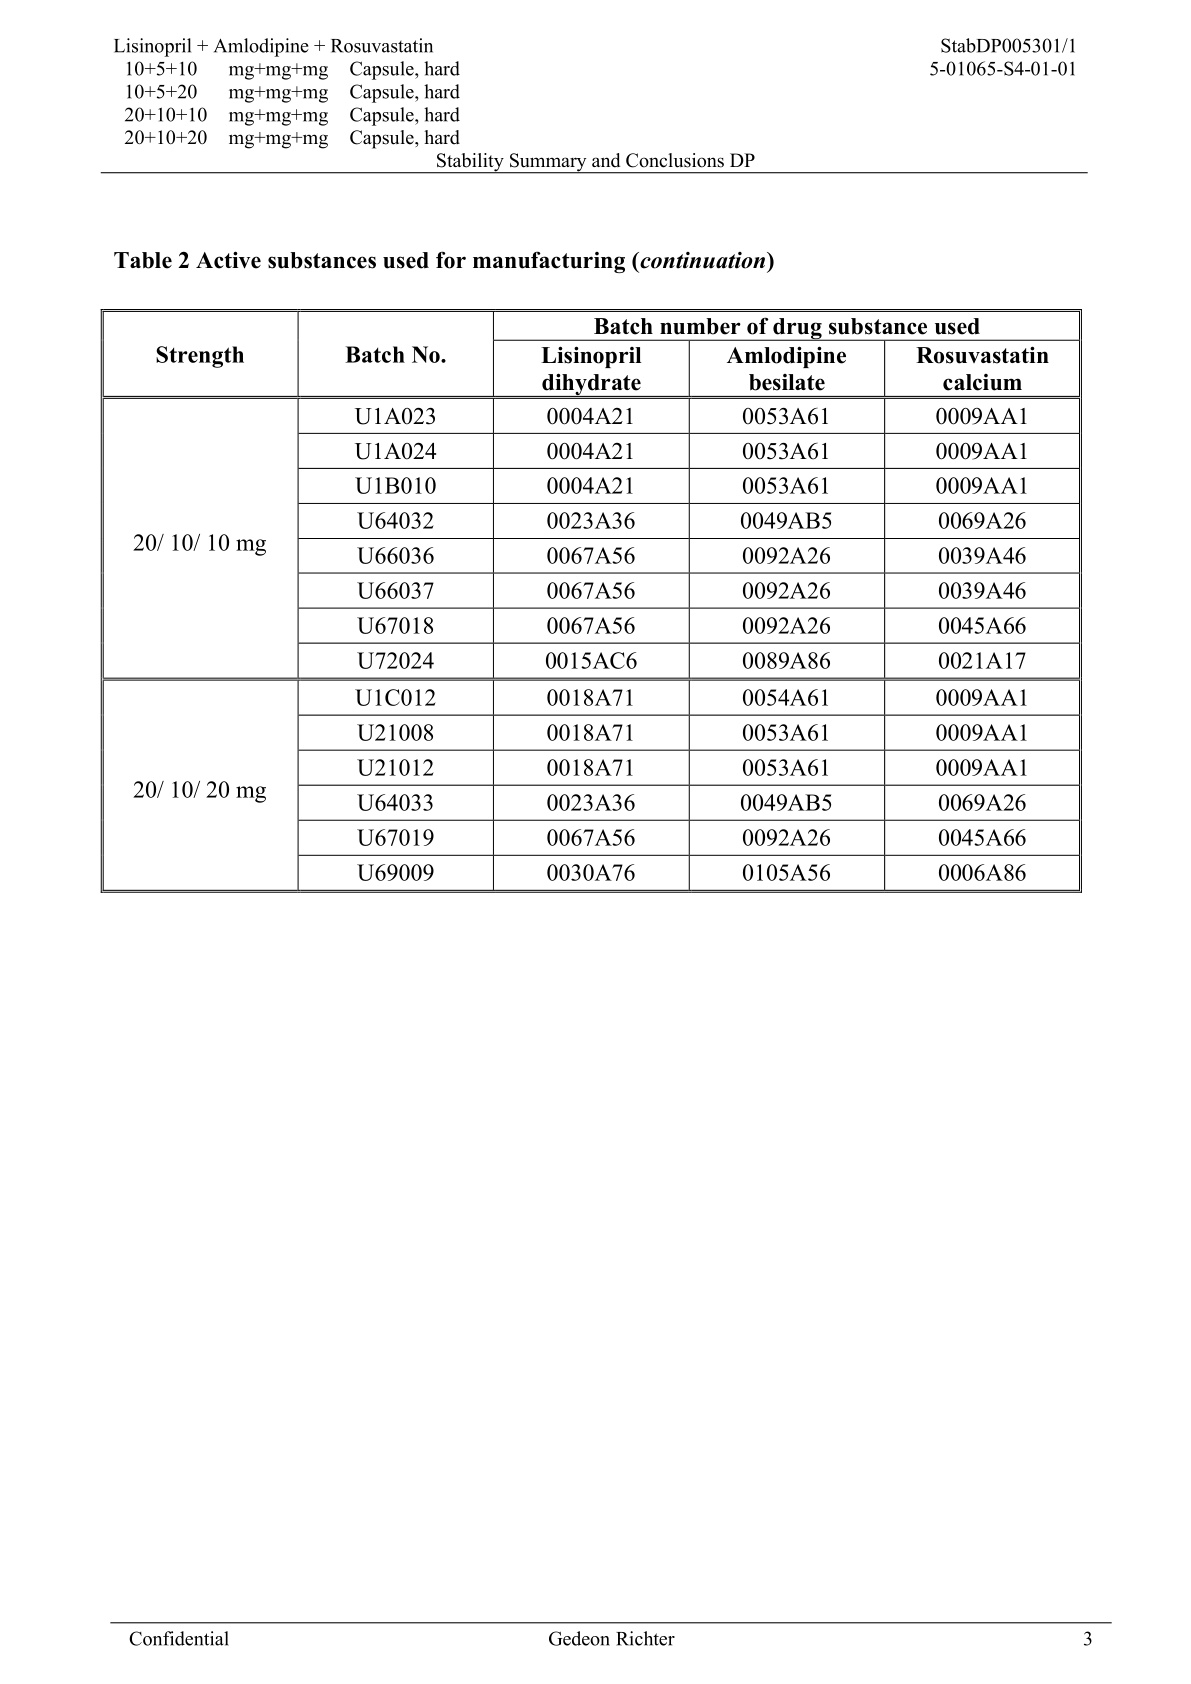merged_cells: (98, 307, 1083, 894)
nolines: (111, 33, 464, 151)
